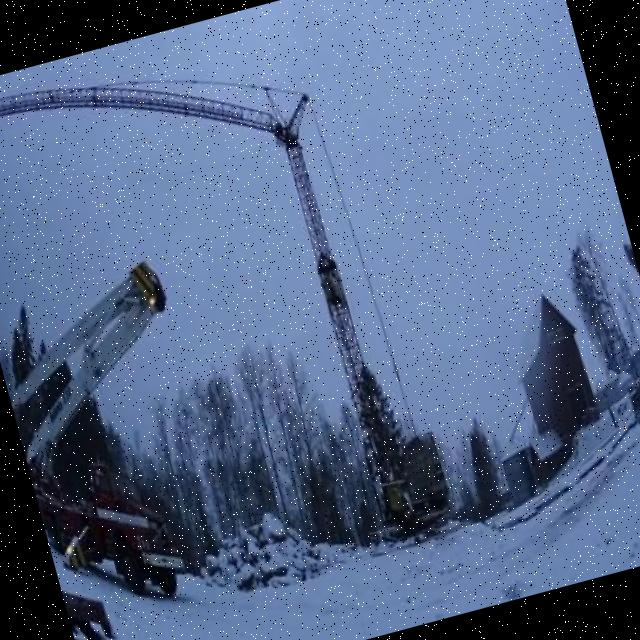Mobile Crane: (0, 253, 240, 613)
